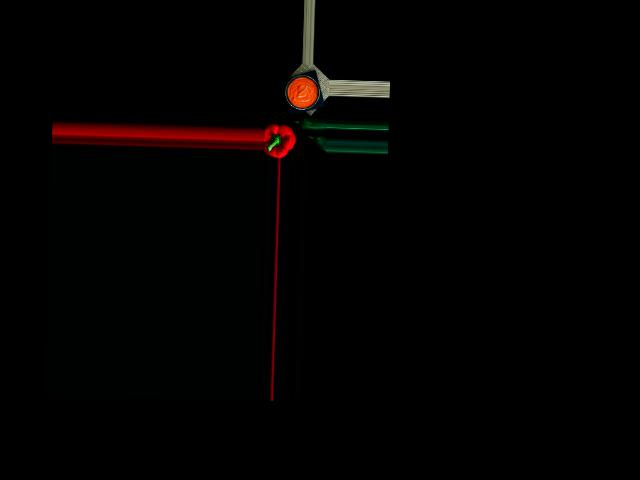bell_pepper: (263, 123, 295, 157)
